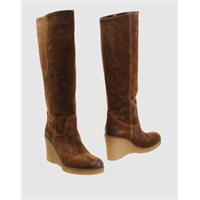shoe: (36, 11, 104, 174), (100, 11, 160, 160)
